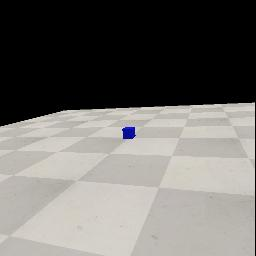box: (122, 127, 136, 139)
